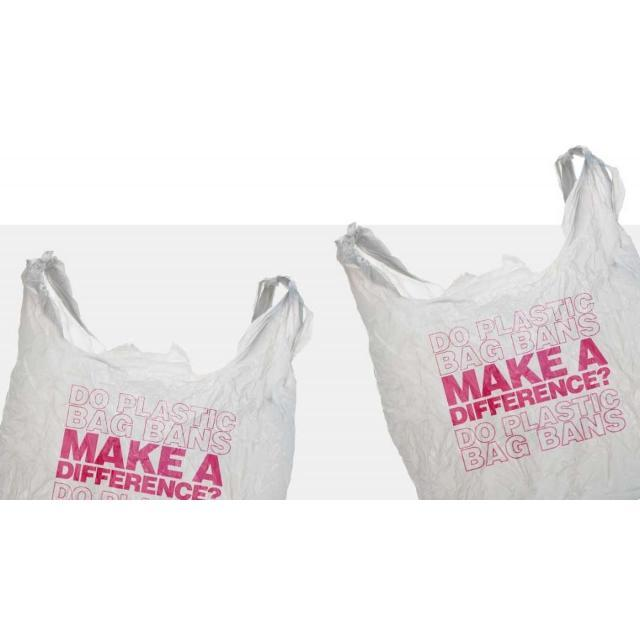plastic: (336, 146, 639, 498), (0, 252, 311, 498)
